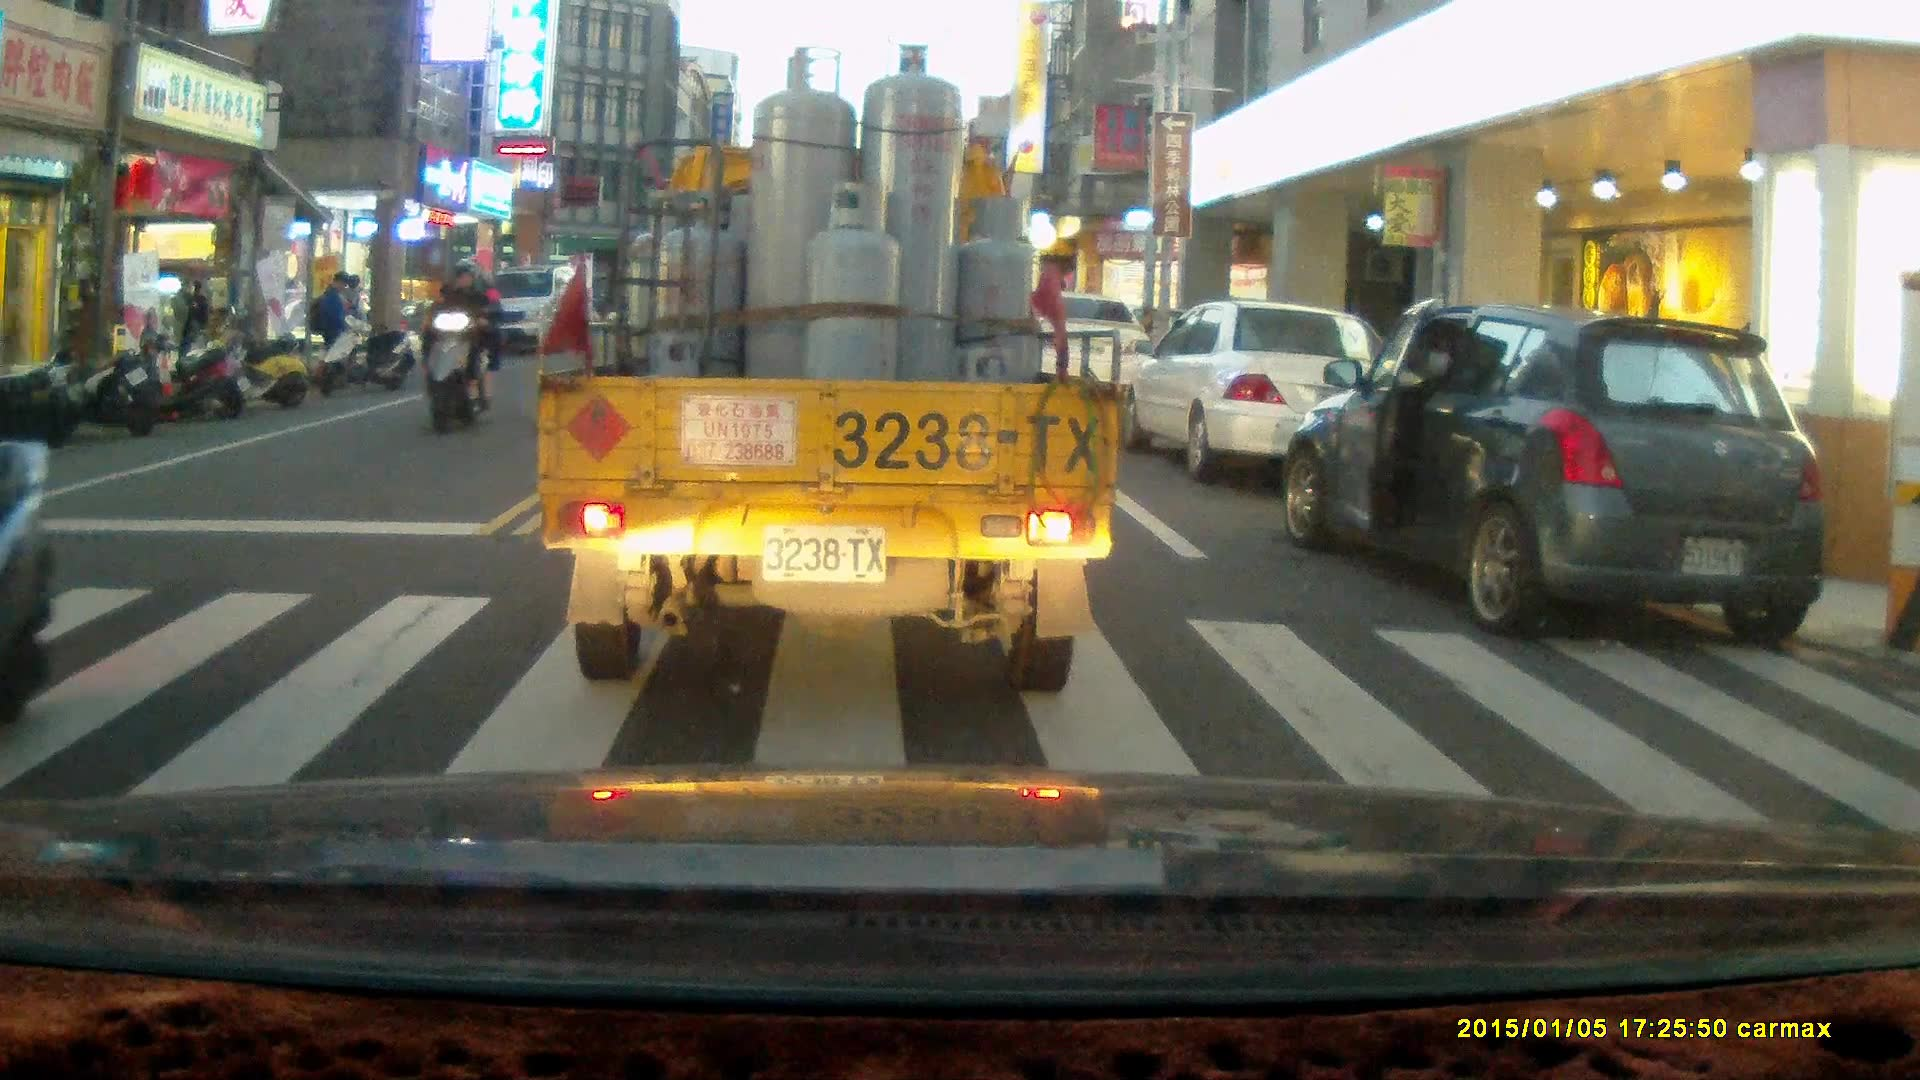pedestrian: (314, 271, 350, 387), (165, 279, 200, 389)
rider: (423, 259, 500, 432)
vehicle: (532, 64, 1116, 694), (1283, 308, 1834, 654), (1119, 302, 1403, 483), (1026, 295, 1160, 413), (460, 269, 587, 364)
